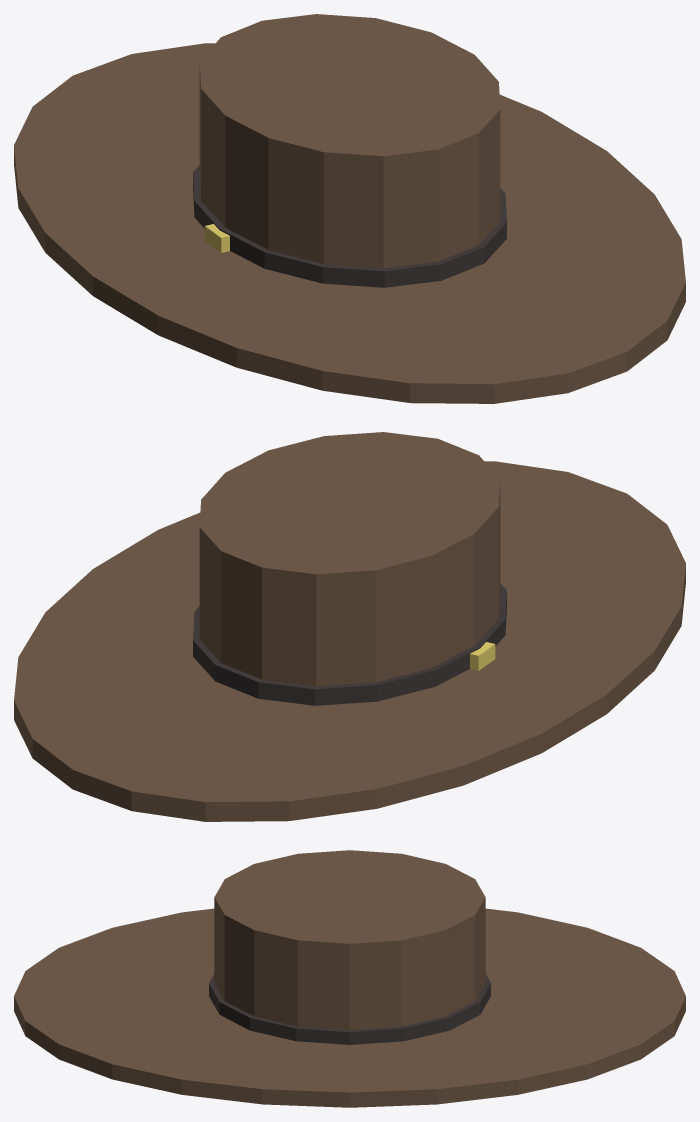
The model's file is CowboyHat.glb.
The picture shows the model from 3 angles, top to bottom: view 1: azimuth 30°, elevation 25°; view 2: azimuth 150°, elevation 25°; view 3: azimuth 270°, elevation 25°; orthographic projection. The views are drawn at different scales.
Visible parts, largest first — view 1: CowboyHat; view 2: CowboyHat; view 3: CowboyHat.
Boxes of the visible parts, box(x1,y1,x2,y2) form: CowboyHat: box(14, 14, 685, 403); CowboyHat: box(14, 432, 685, 821); CowboyHat: box(14, 850, 685, 1107).
Bounding box in the file's own units: 0.816 × 0.225 × 1.2.
